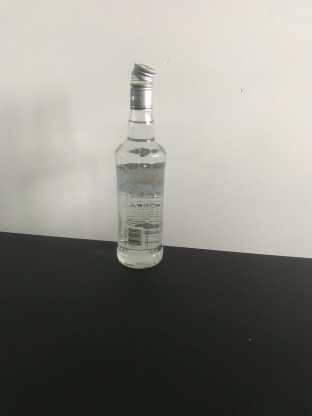nakretka: (128, 60, 157, 110)
